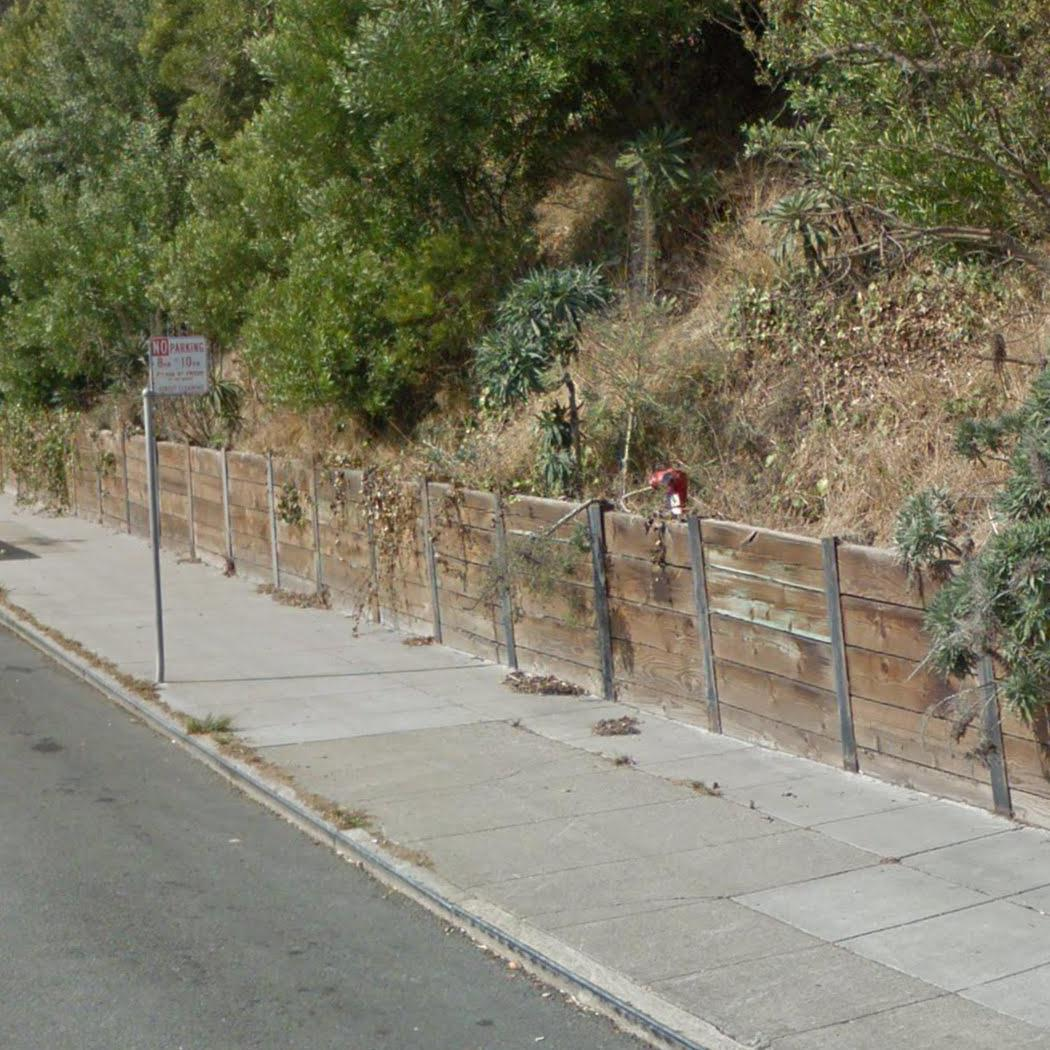No Parking: (146, 332, 211, 398)
